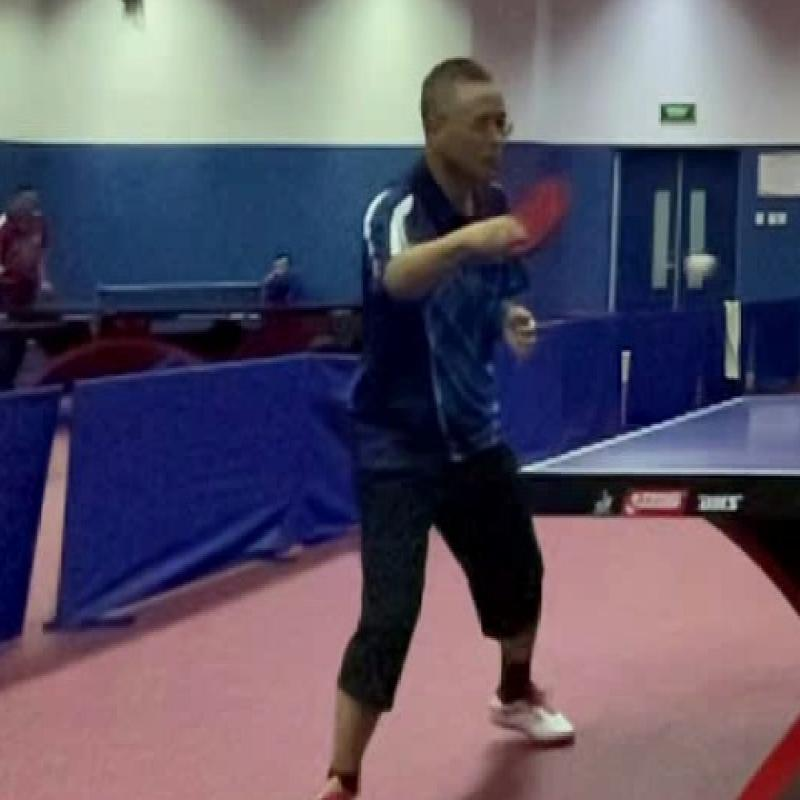bats: (493, 170, 584, 278)
